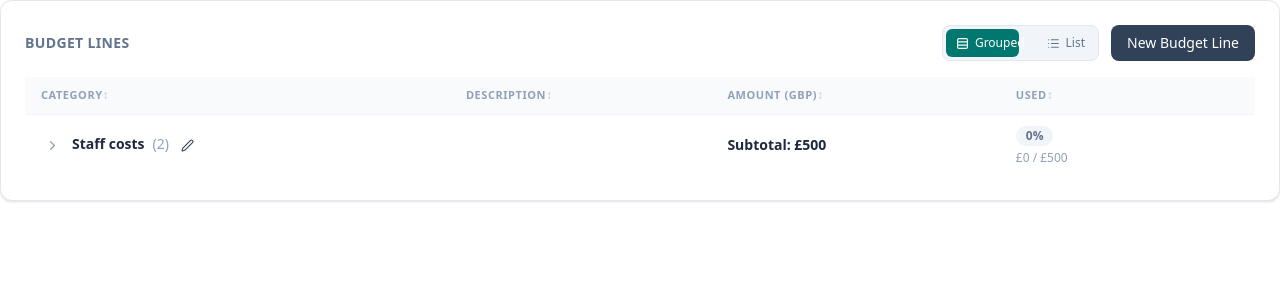
BudgetViewLinesTable Grouped/List toggle › switching back to Grouped restores subtotal rows
What coordinates should you click on to do the following:
click the button "List"
I would click on:
 (1066, 43)
Its box is [1037,29,1095,57].
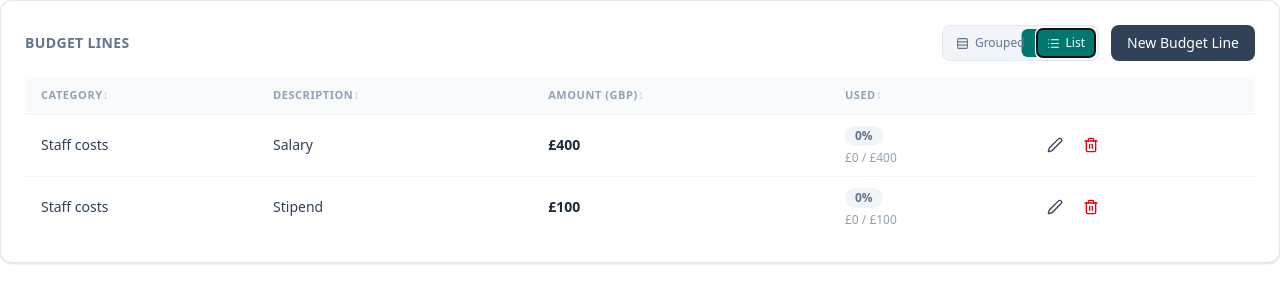
What coordinates should you click on to do the following:
click the button "Grouped"
I would click on:
 (990, 43)
Its box is [946,29,1035,57].
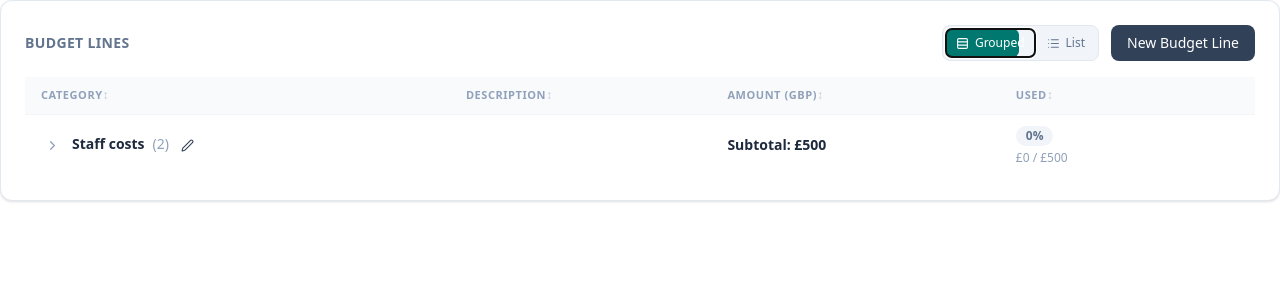
expect the text "Subtotal: £500" is shown: met, box [727,135,826,154]
